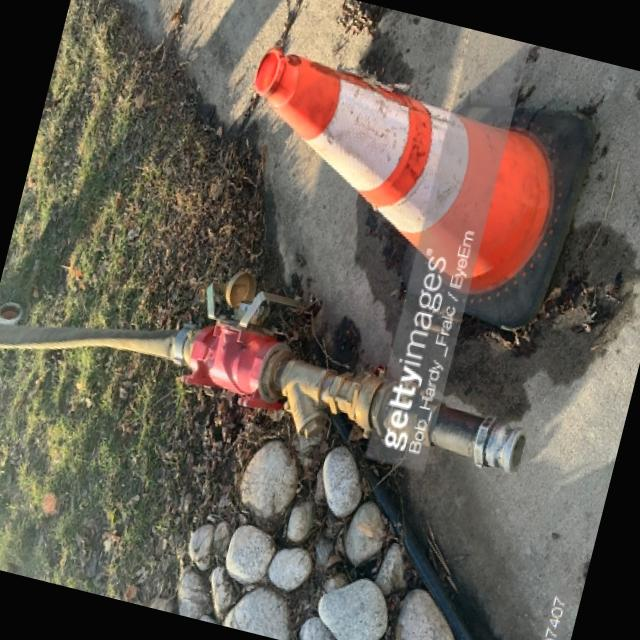cone: (161, 0, 640, 339)
